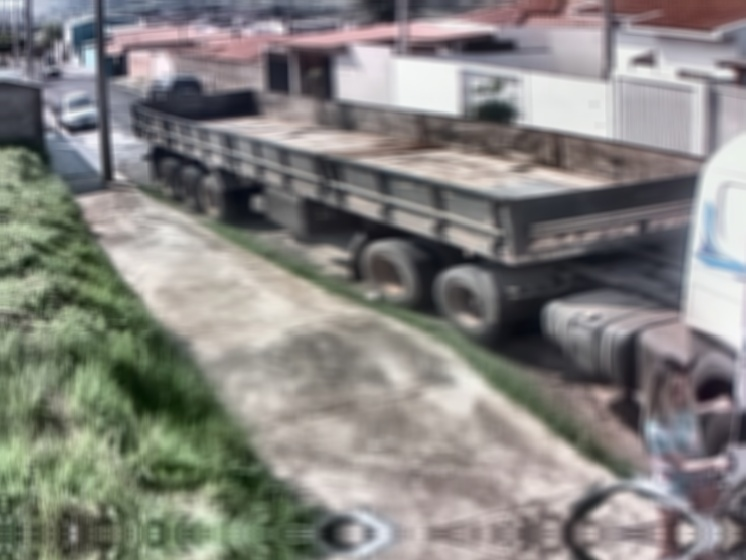person: (635, 354, 731, 560)
